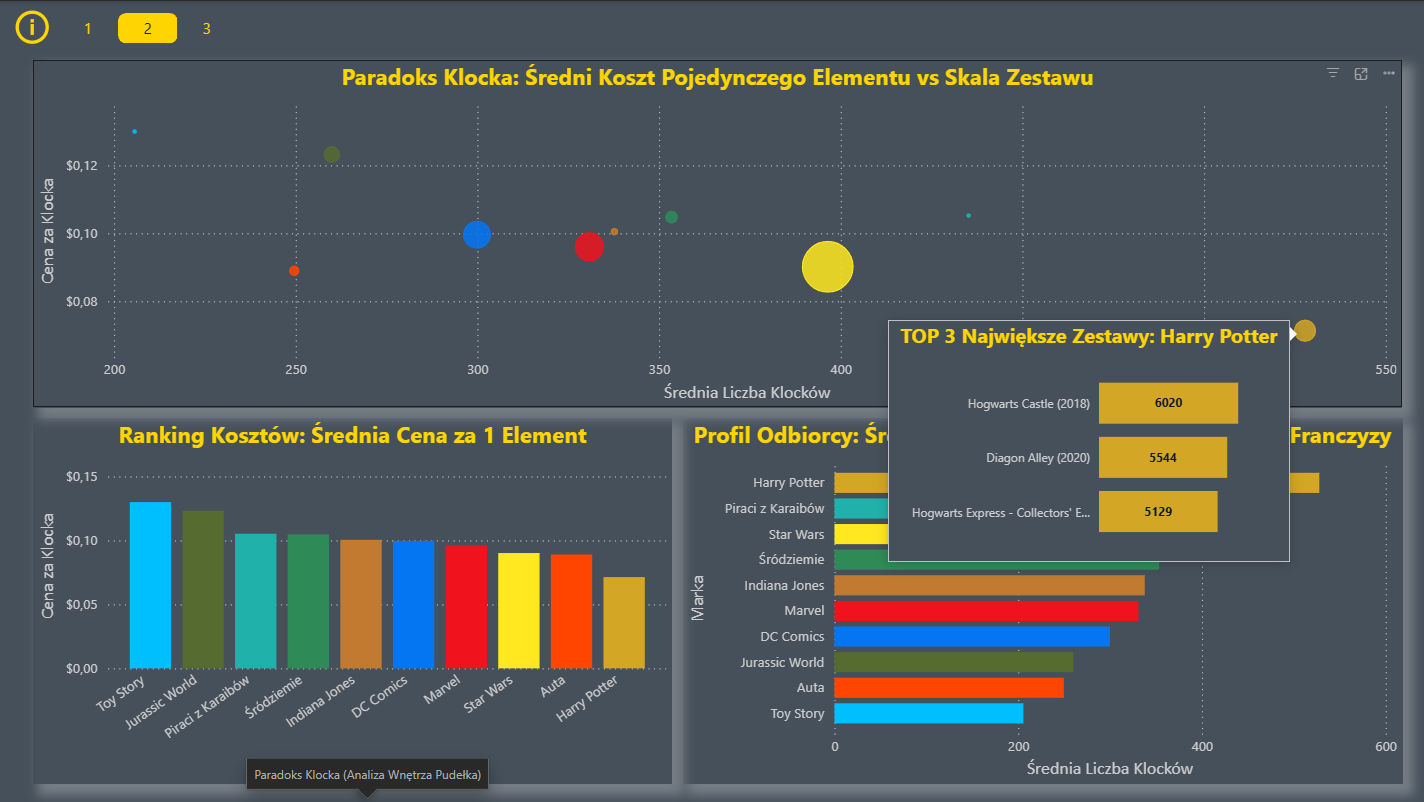

What the dashboard file says about the page in this screenshot:
{"tool":"powerbi","page":{"name":"Paradoks Klocka (Analiza Wnętrza Pudełka)","canvas":[1280,720],"ordinal":2},"visuals":[{"type":"shape","title":"1","box":[52.5,10.7,53.5,27],"z":0,"group":"g1"},{"type":"clusteredBarChart","title":"Profil Odbiorcy: Średnia Wielkość Pudełka w Podziale na Franczyzy","fields":{"Category":["Dim_Brands.Marka"],"Y":["_Miary.Średnia Liczba Klocków"]},"box":[613.7,374.5,645.8,328.8],"z":0},{"type":"shape","title":"2","box":[106,10.7,53.5,27.2],"z":1000,"group":"g1"},{"type":"scatterChart","title":"Paradoks Klocka: Średni Koszt Pojedynczego Elementu vs Skala Zestawu","fields":{"Category":["Dim_Brands.Marka"],"X":["_Miary.Średnia Liczba Klocków"],"Y":["_Miary.Cena za Klocka"],"Size":["_Miary.Liczba Zestawów"]},"box":[30.2,52.5,1229.4,312.2],"z":1000},{"type":"shape","title":"3","box":[159.5,10.7,53.5,27.2],"z":2000,"group":"g1"},{"type":"clusteredColumnChart","title":"Ranking Kosztów: Średnia Cena za 1 Element","fields":{"Category":["Dim_Brands.Marka"],"Y":["_Miary.Cena za Klocka"]},"box":[30.2,374.5,573.9,328.8],"z":2000},{"type":"actionButton","box":[9.7,3.9,40.9,39.9],"z":3000},{"type":"group","id":"g1","title":"Grupa 1","box":[52.5,10.7,160.5,27.2],"z":4000}]}

Visuals, with their boxes on the page's 1280x720 design canvas (x1, y1, x2, y2). These are canvas units, not pixel positions in the 1424x802 screenshot, which may show the page scaled, cropped or inside an application window:
"1" shape: box(52, 11, 106, 38)
"Profil Odbiorcy: Średnia Wielkość Pudełka w Podziale na Franczyzy" clusteredBarChart: box(614, 374, 1260, 703)
"2" shape: box(106, 11, 160, 38)
"Paradoks Klocka: Średni Koszt Pojedynczego Elementu vs Skala Zestawu" scatterChart: box(30, 52, 1260, 365)
"3" shape: box(160, 11, 213, 38)
"Ranking Kosztów: Średnia Cena za 1 Element" clusteredColumnChart: box(30, 374, 604, 703)
actionButton: box(10, 4, 51, 44)
"Grupa 1" group: box(52, 11, 213, 38)
